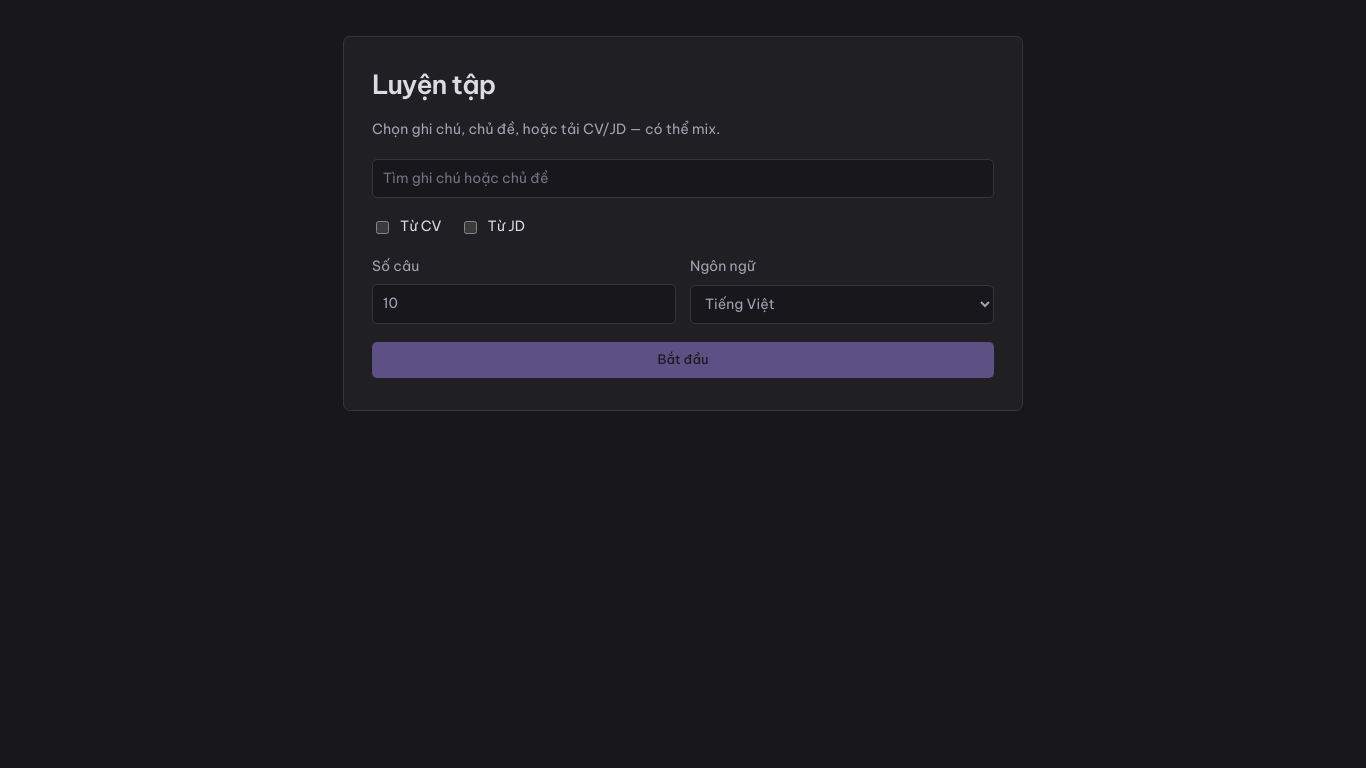
Test: PracticePage › reviews CV-generated questions without showing answers before the quiz
Click the checkbox labelled "Từ CV".
click(382, 227)  # box [376, 221, 389, 234]
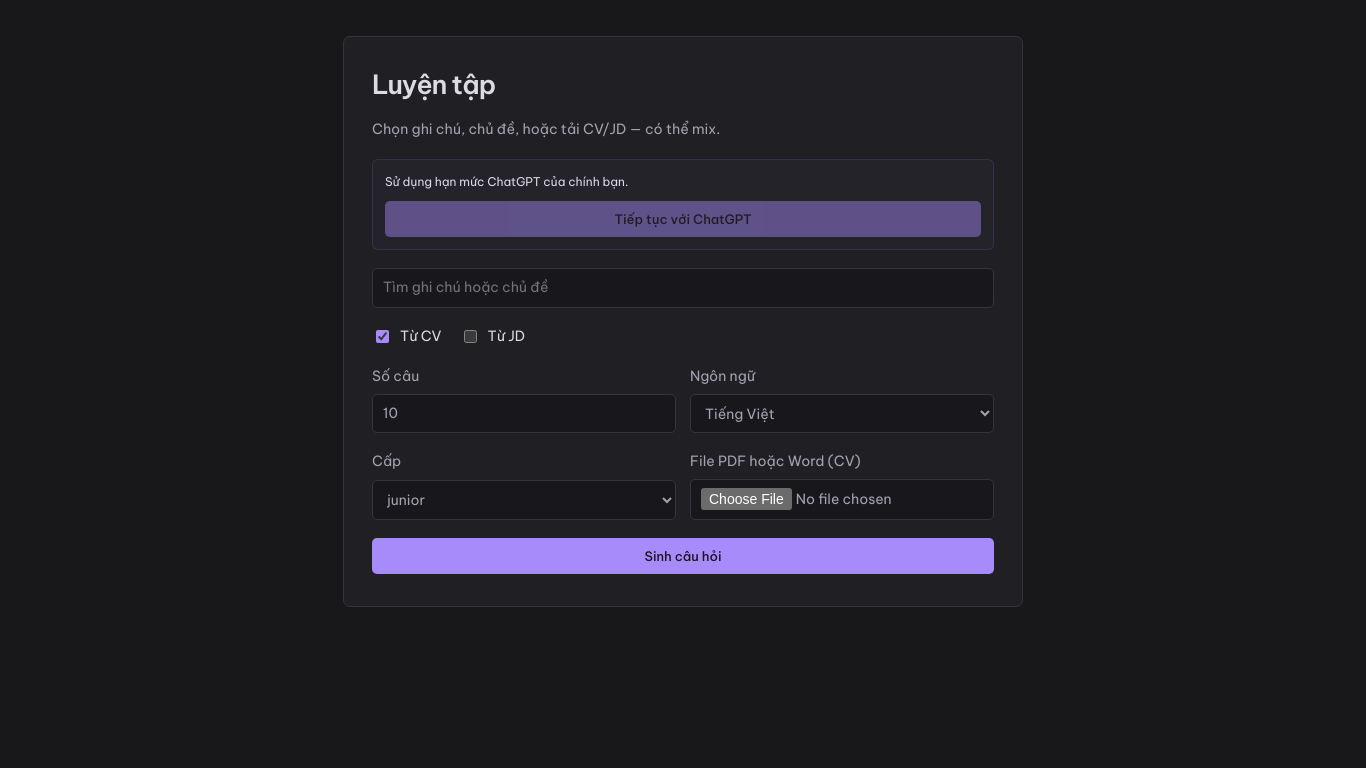
Check: the field with placeholder "Tìm ghi chú hoặc chủ đề" is shown, box [372, 268, 994, 308]
Check: the dropdown labelled "Cấp" is shown, box [372, 480, 676, 520]
Click the button "Sinh câu hỏi".
click(683, 556)  # box [372, 538, 994, 574]
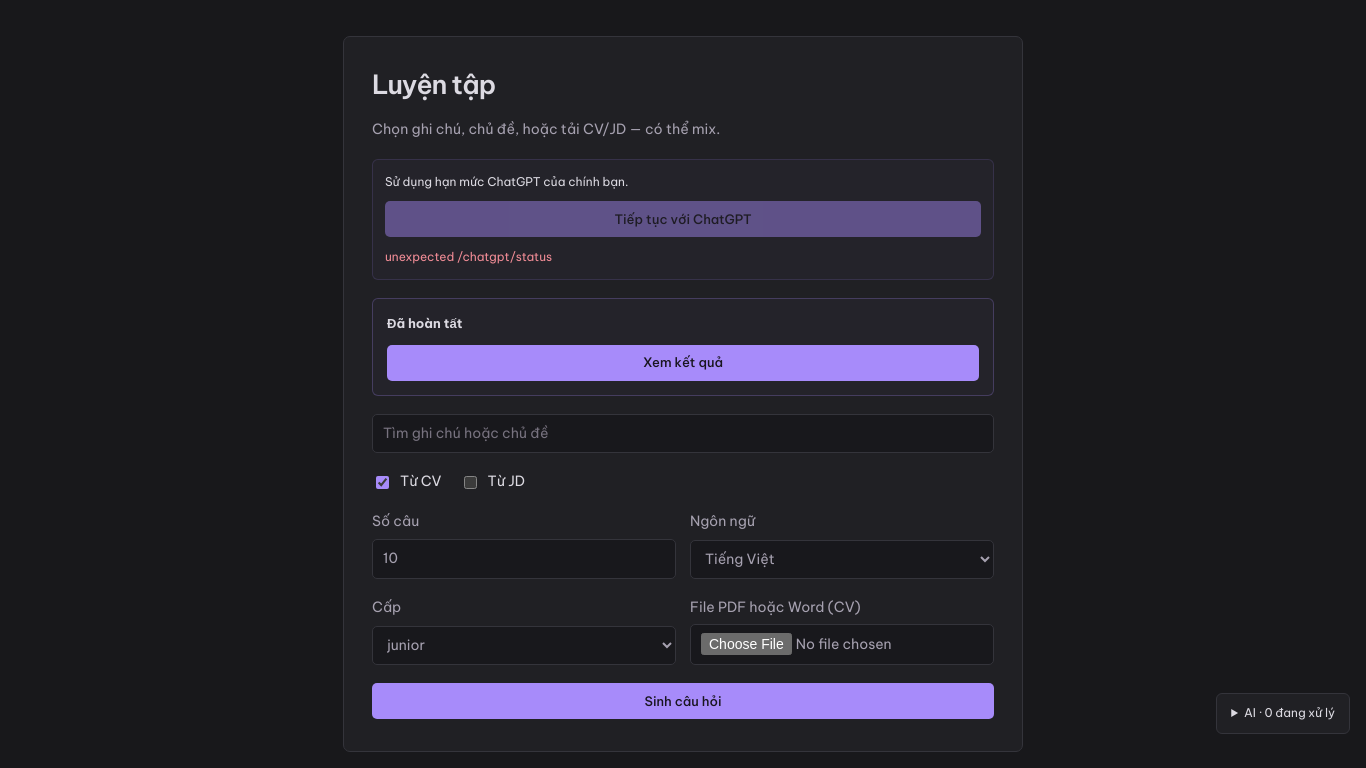
Click the button "Xem kết quả".
click(683, 362)  # box [387, 344, 979, 380]
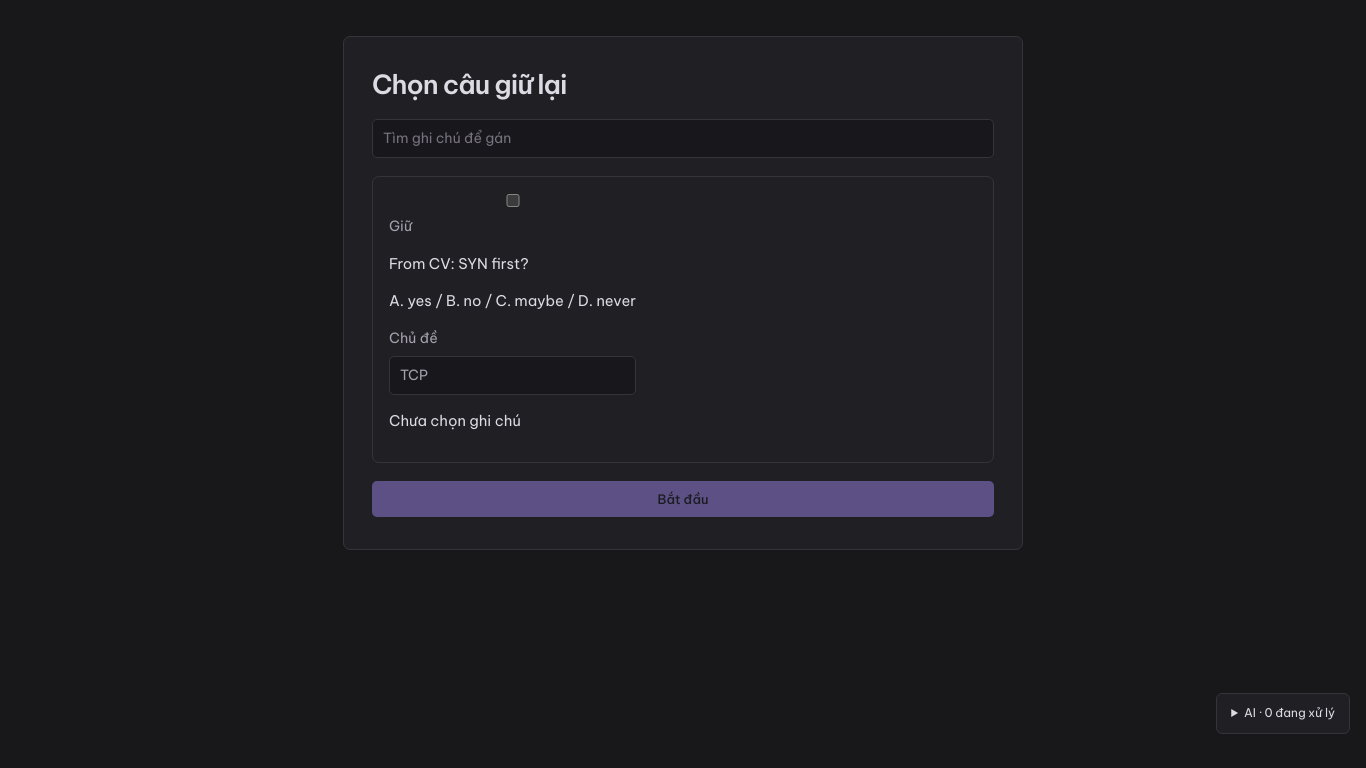
Check: the text "From CV: SYN first?" is shown, box [389, 254, 529, 273]
